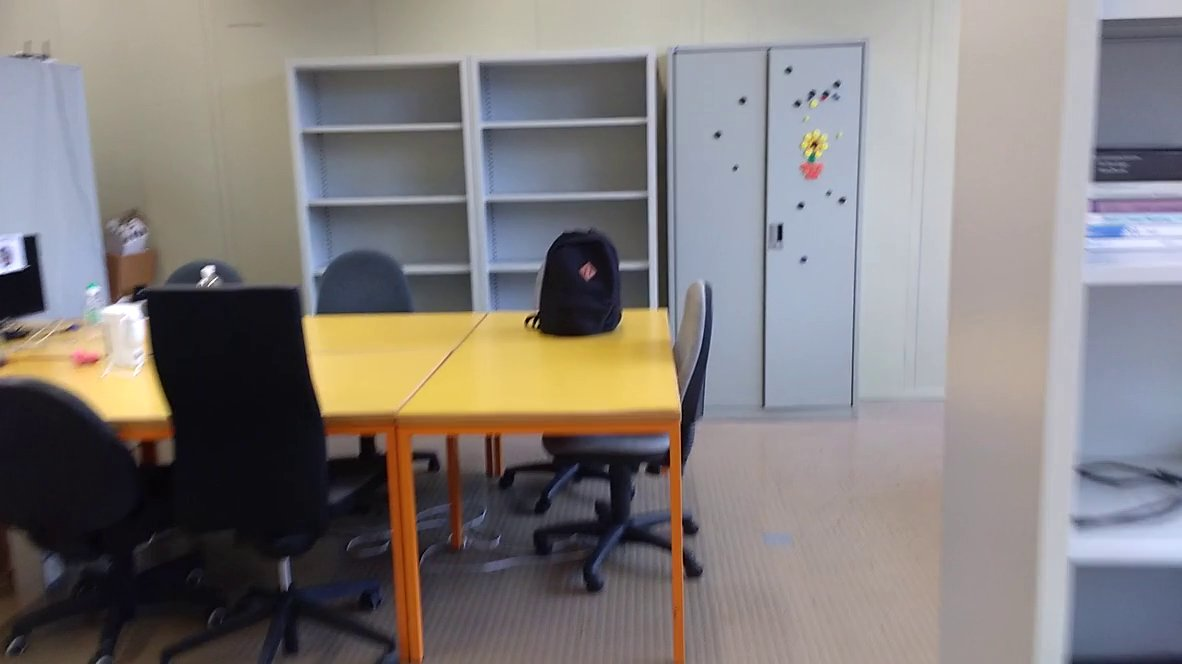bag: (523, 222, 627, 350)
chair: (134, 263, 407, 664), (537, 262, 725, 595), (1, 373, 203, 664), (305, 239, 418, 334)
